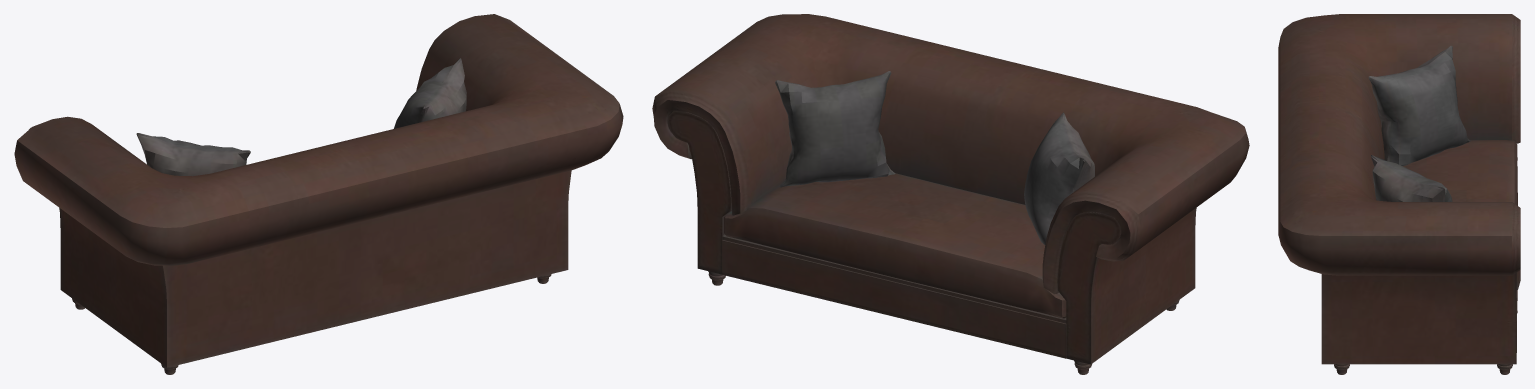
Rendered from sofa-leather-3seat.glb.
The picture shows the model from 3 angles, left to right: view 1: azimuth 30°, elevation 25°; view 2: azimuth 150°, elevation 25°; view 3: azimuth 270°, elevation 25°; orthographic projection. The views are drawn at different scales.
Visible parts, largest first — view 1: sofa-leather-3seat; view 2: sofa-leather-3seat; view 3: sofa-leather-3seat.
Part boxes in pixels (x1,y1,x2,y2): sofa-leather-3seat: [14, 14, 623, 374]; sofa-leather-3seat: [652, 14, 1249, 374]; sofa-leather-3seat: [1278, 14, 1520, 374].
Bounding box in the file's own units: 2.01 × 0.739 × 0.9249.
Materials: 1 (1 with a texture image).
